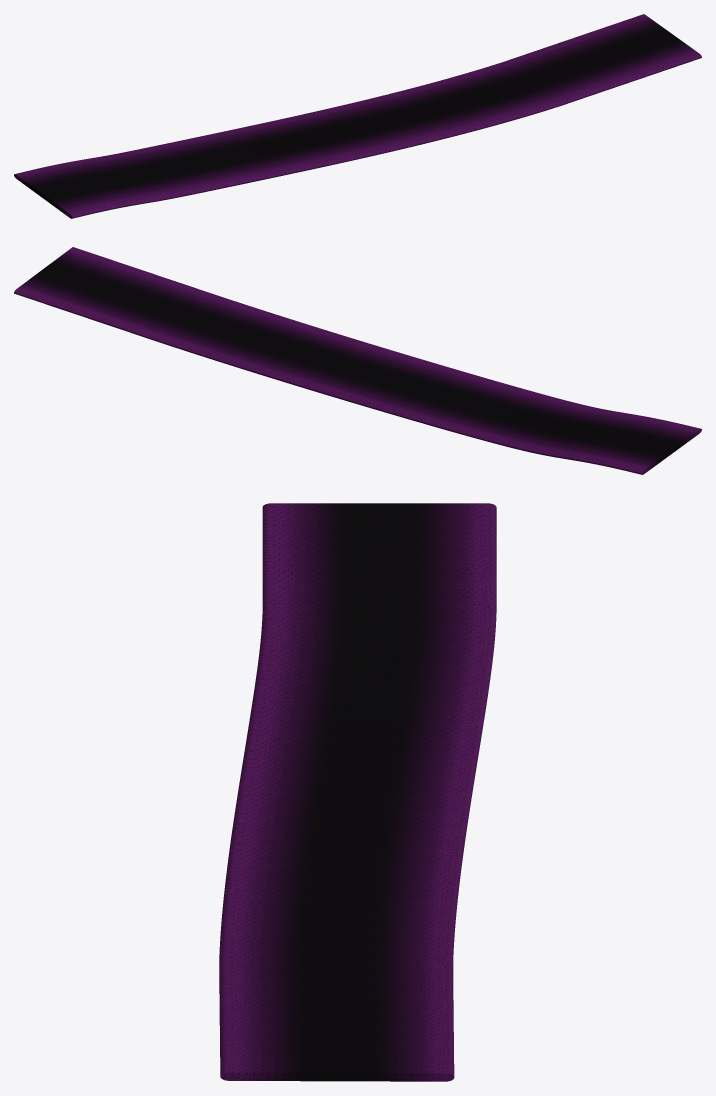
File: level-02-track-01.glb
3 views of the same model, one above another, from view 1: azimuth 30°, elevation 25°; view 2: azimuth 150°, elevation 25°; view 3: azimuth 270°, elevation 25° (orthographic). The views are drawn at different scales.
Parts seen in each view (by area): view 1: track-01.001; view 2: track-01.001; view 3: track-01.001.
Part boxes in pixels (x1,y1,x2,y2): track-01.001: (14,14,701,218); track-01.001: (14,247,701,474); track-01.001: (219,503,496,1081).
Size of the model in its own units: 63.89 by 2.66 by 12.4.
Materials: 2 (2 with a texture image).
